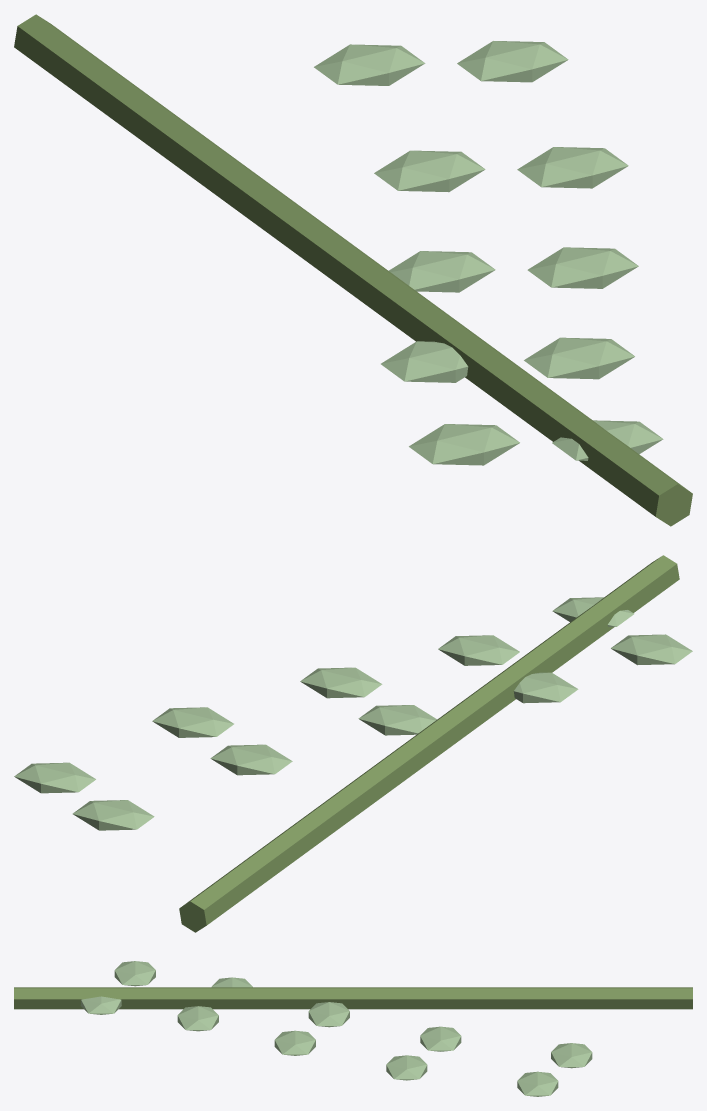
Rendered from maidenhair_fern.glb.
The picture shows the model from 3 angles, top to bottom: view 1: azimuth 30°, elevation 25°; view 2: azimuth 150°, elevation 25°; view 3: azimuth 270°, elevation 25°; orthographic projection. The views are drawn at different scales.
Parts seen in each view (by area): view 1: world; view 2: world; view 3: world.
Part boxes in pixels (x1,y1,x2,y2): world: (14,14,692,526); world: (14,555,692,932); world: (14,961,692,1096).
Bounding box in the file's own units: 0.6506 × 0.0492 × 1.4.
